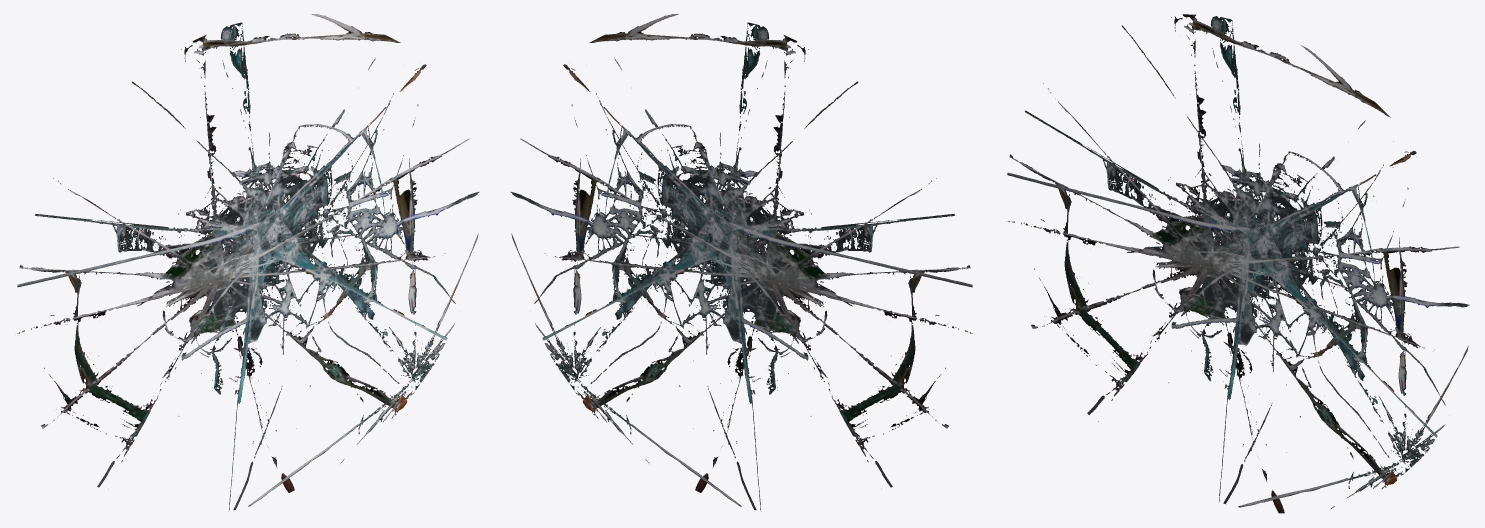
File: Crack 4.fbx
3 views of the same model, side by side, from view 1: azimuth 30°, elevation 25°; view 2: azimuth 150°, elevation 25°; view 3: azimuth 330°, elevation 25° (orthographic).
Parts seen in each view (by area): view 1: pCylinder1; view 2: pCylinder1; view 3: pCylinder1.
Part boxes in pixels (bbox=[...]): pCylinder1: bbox=[17, 14, 479, 510]; pCylinder1: bbox=[510, 14, 972, 510]; pCylinder1: bbox=[1007, 14, 1469, 513].
Size of the model in its own units: 16.74 by 16.65 by 0.
Materials: 1 (1 with a texture image).
